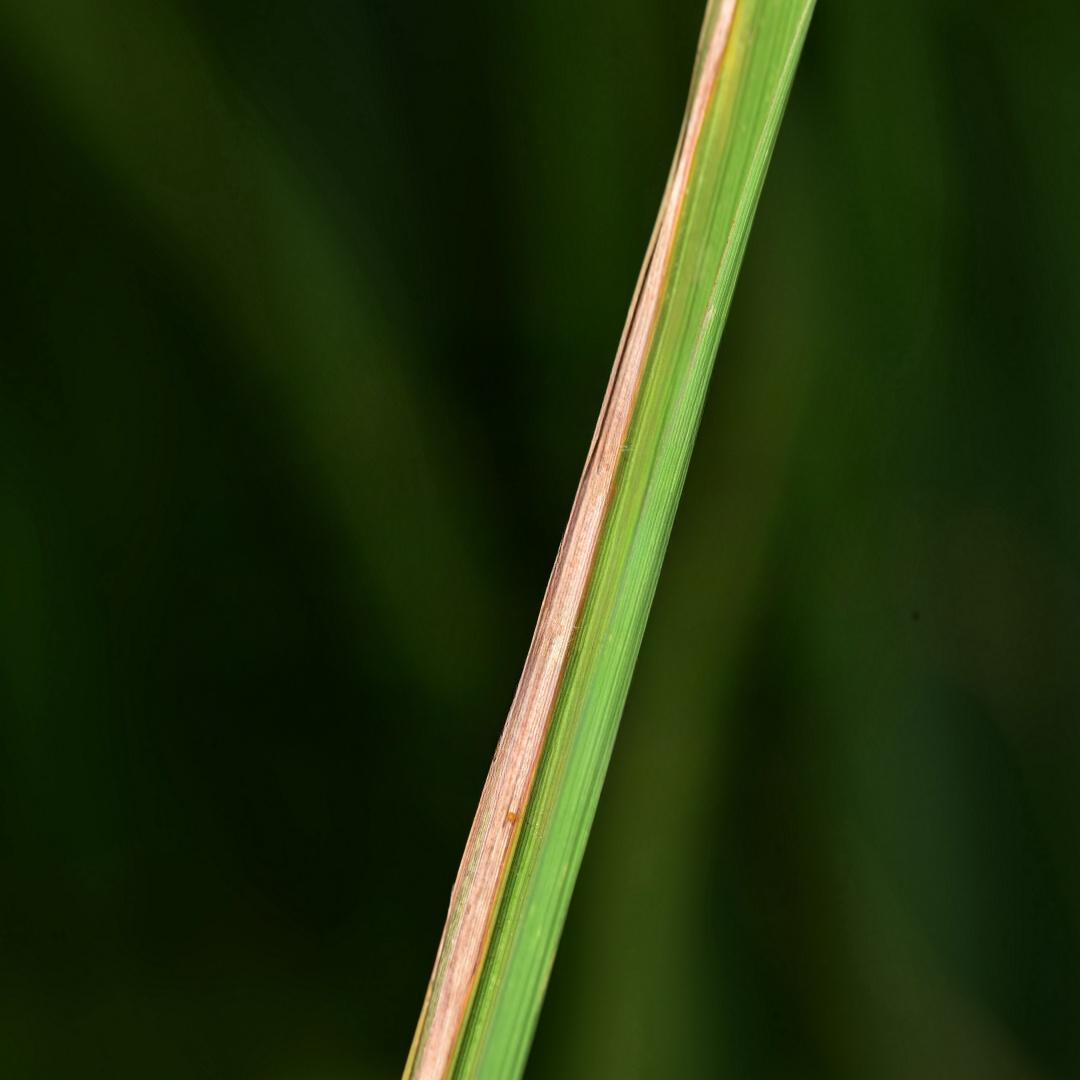BLB: (408, 0, 738, 1078)
LEAF: (403, 0, 815, 1079)
